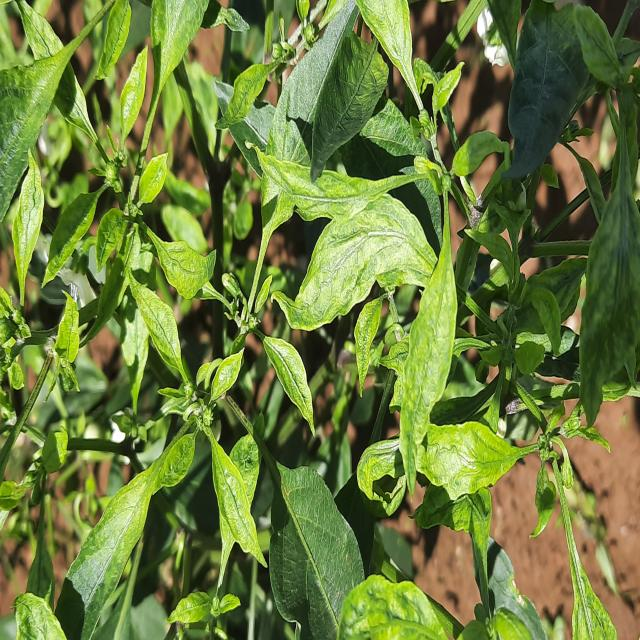thrips: (251, 145, 444, 330), (57, 428, 208, 639), (127, 273, 191, 387)
